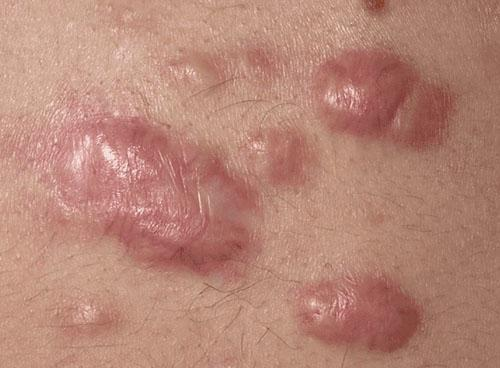cystic: (54, 281, 120, 351)
keloid: (1, 109, 281, 276), (317, 37, 463, 145), (282, 267, 428, 359), (135, 33, 254, 106), (275, 129, 309, 196)
